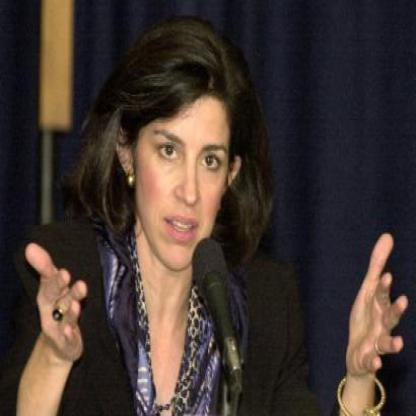face: (136, 46, 236, 274)
